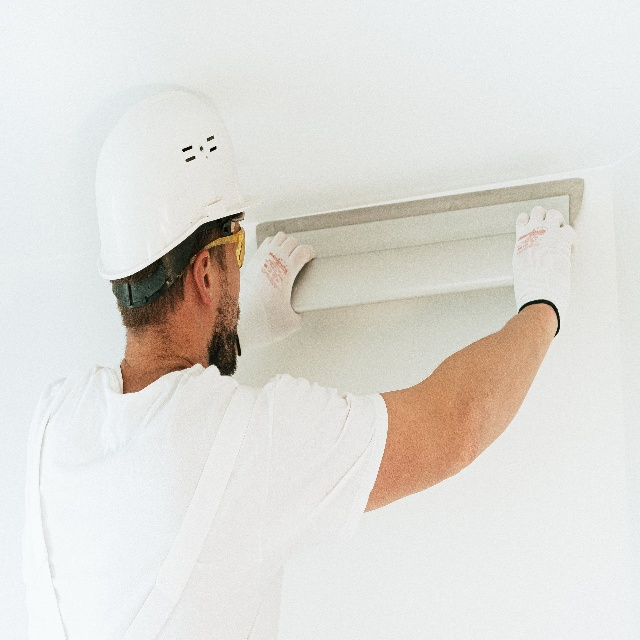Gafas: (192, 225, 251, 271)
Guantes: (236, 228, 314, 340), (510, 211, 576, 329)
Sin_guantes: (508, 204, 578, 337), (235, 232, 318, 341)
